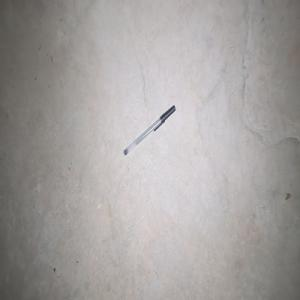Pen: (123, 105, 175, 155)
